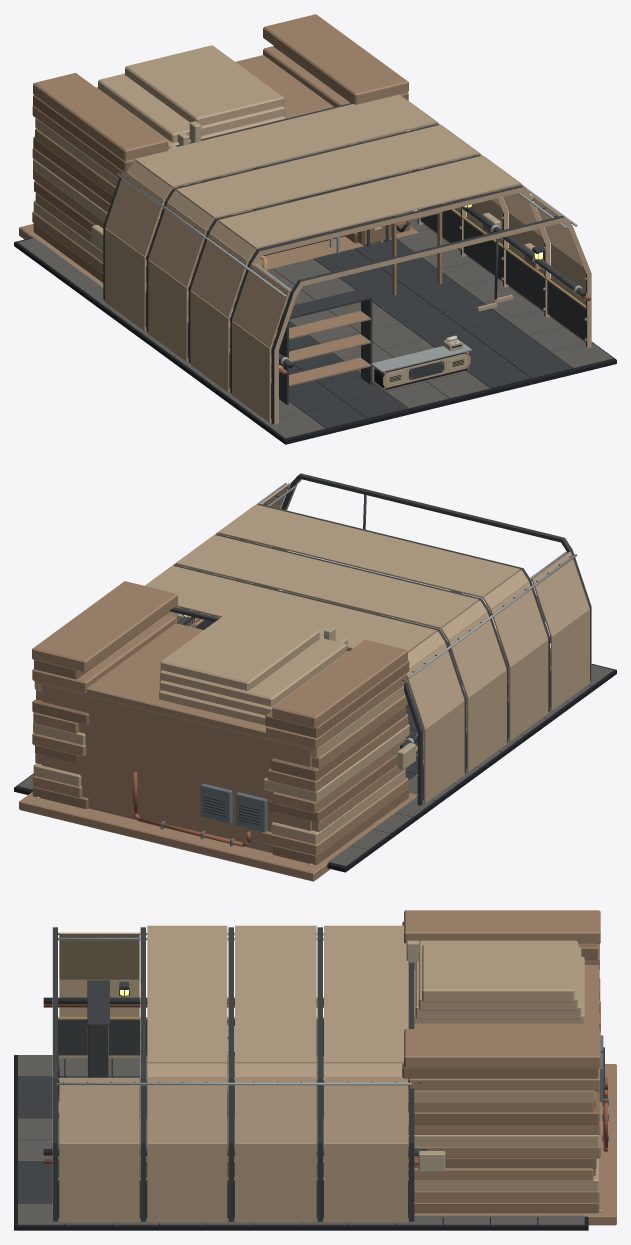
The model's file is dunemoor-depot.glb.
3 renders of one model, top to bottom at view 1: azimuth 30°, elevation 25°; view 2: azimuth 150°, elevation 25°; view 3: azimuth 270°, elevation 25°, orthographic. The views are drawn at different scales.
Parts seen in each view (by area): view 1: dunemoor-depot; view 2: dunemoor-depot; view 3: dunemoor-depot.
Part boxes in pixels (<box>): dunemoor-depot: <box>14,14,616,444</box>; dunemoor-depot: <box>14,473,616,881</box>; dunemoor-depot: <box>14,910,616,1230</box>.
Size of the model in its own units: 17.08 by 8.07 by 25.4.
Materials: 19 (16 with a texture image).
